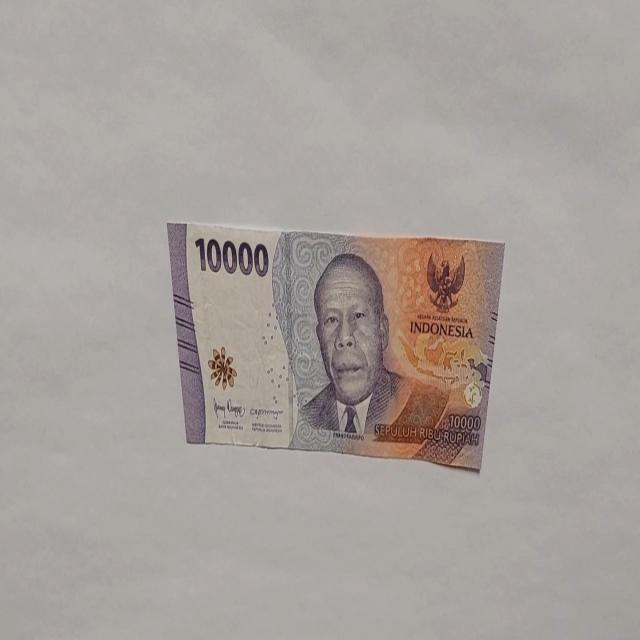sepuluh ribu rupiah: (167, 219, 506, 472), (288, 250, 450, 452), (193, 234, 269, 278)
